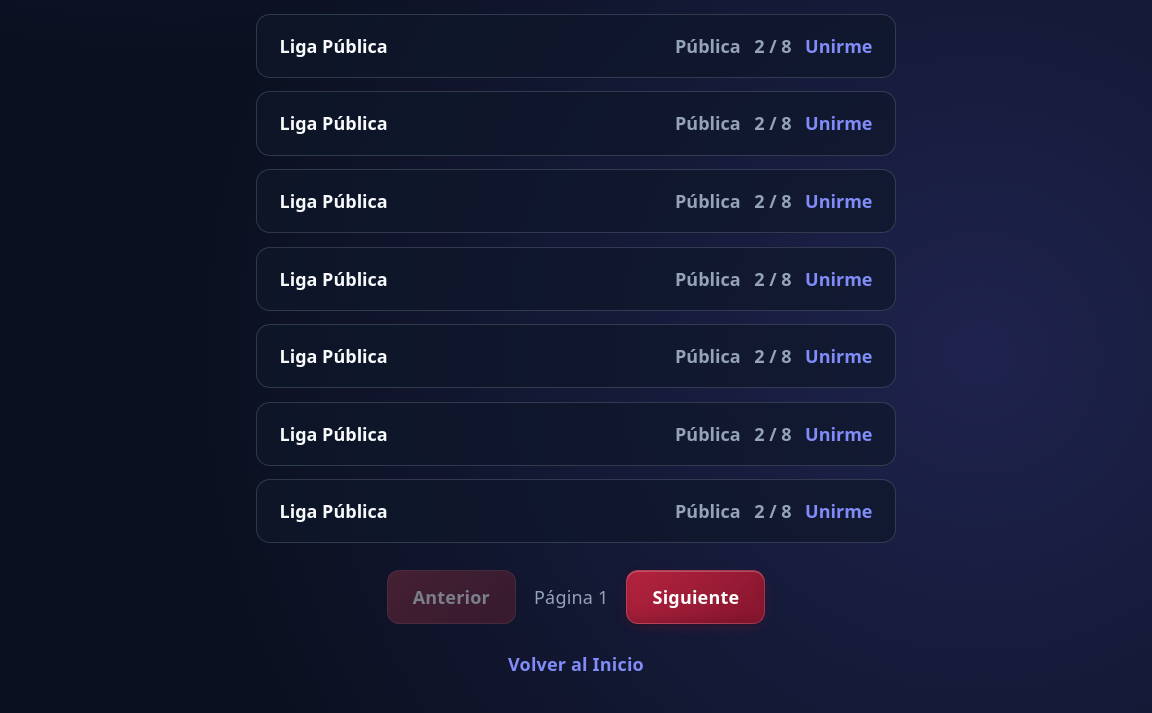
Scenario: LeagueListPage › paginación: Anterior deshabilitado en página 1 y Siguiente cambia de página
(page scrolled)
Expected: the button "Anterior" is disabled, [386,570,516,624]
Click the button "Siguiente" at (696, 597), box [626,570,765,624]
(page scrolled)
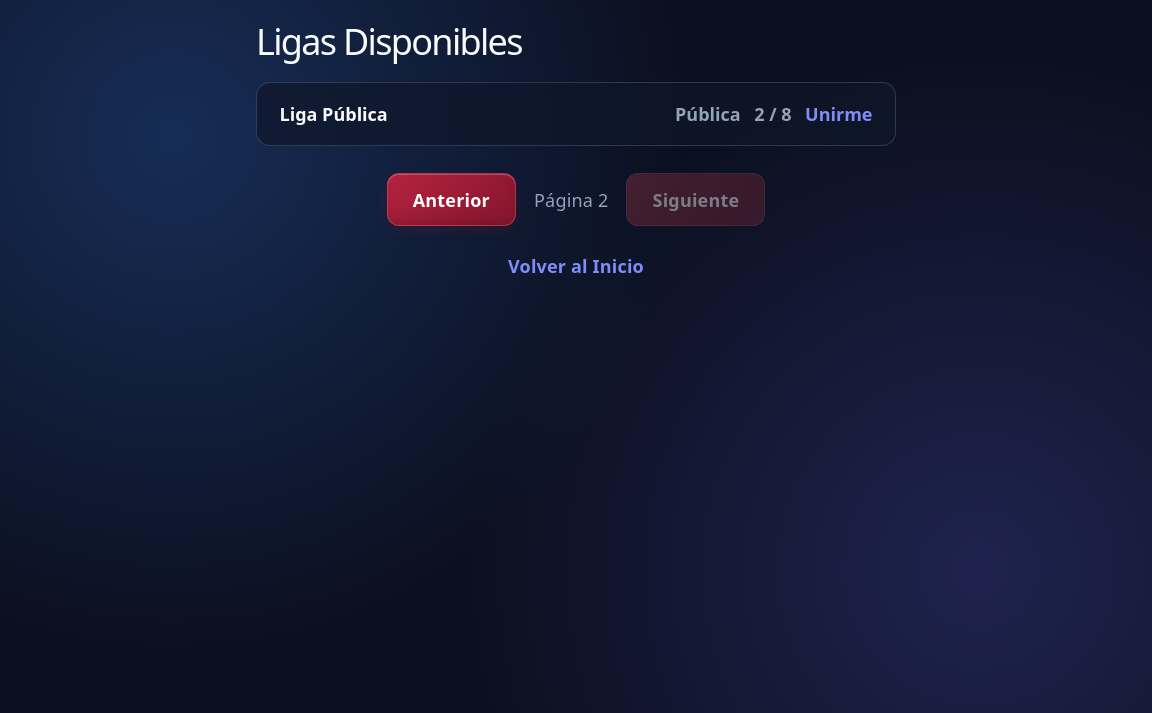
Now the button "Siguiente" is disabled, box [626,173,765,226]
